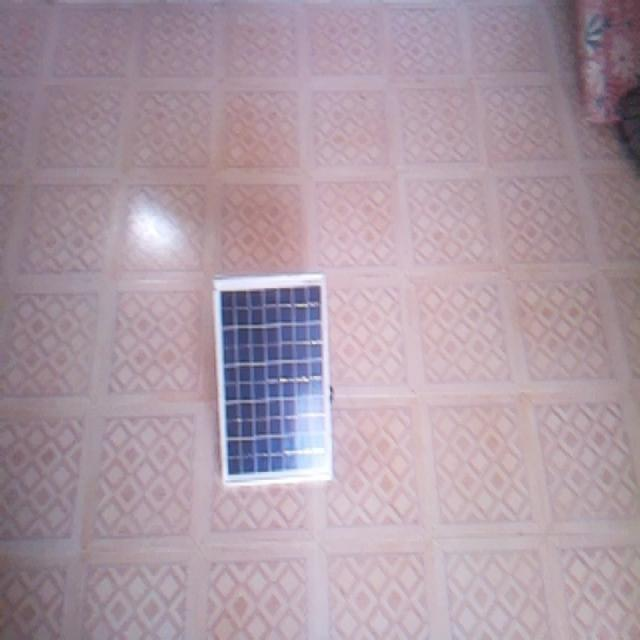Normal Solar Panel: (215, 277, 332, 485)
